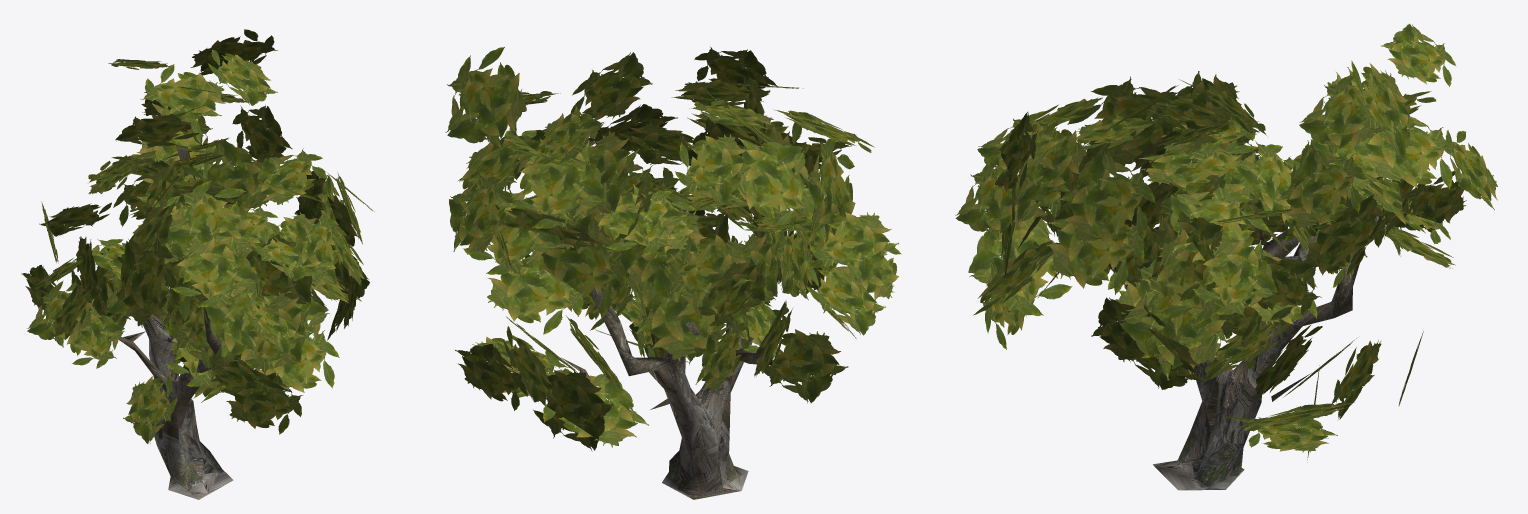
The model's file is tree_01_lod1.obj.
The picture shows the model from 3 angles, left to right: view 1: azimuth 30°, elevation 25°; view 2: azimuth 150°, elevation 25°; view 3: azimuth 270°, elevation 25°; orthographic projection. The views are drawn at different scales.
Parts seen in each view (by area): view 1: leaves, trunk; view 2: leaves, trunk; view 3: leaves, trunk.
Boxes of the visible parts, bbox=[...] form: leaves: bbox=[21, 29, 374, 443]; trunk: bbox=[118, 145, 233, 499]; leaves: bbox=[445, 47, 901, 451]; trunk: bbox=[541, 172, 800, 499]; leaves: bbox=[955, 23, 1497, 462]; trunk: bbox=[1108, 170, 1379, 490].
Size of the model in its own units: 5.14 by 5.22 by 5.35.
2 materials, 2 textured.
